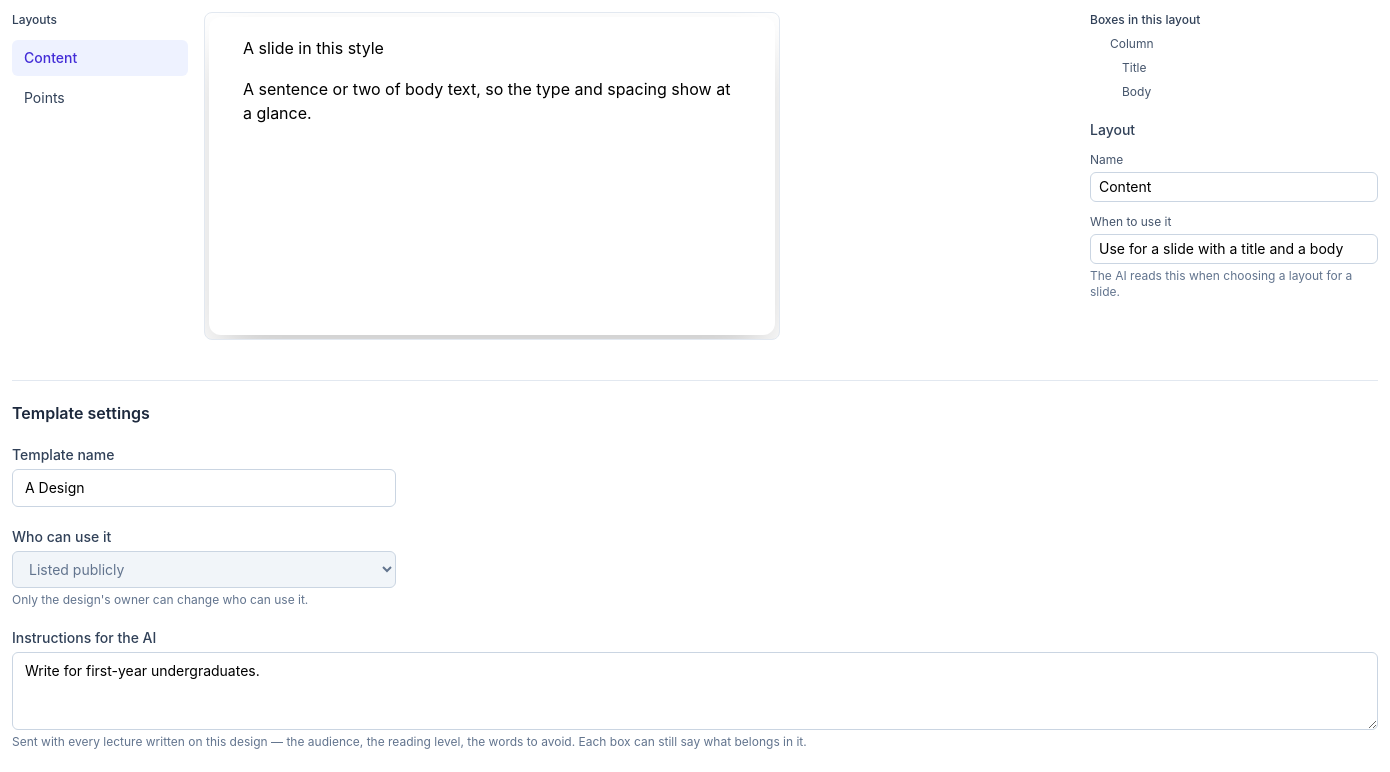
Scenario: TemplateReaderView (TMPL-29) › shows the first layout’s own settings, and switching layouts updates them
Expected: the field showing "Use for a slide with a title and a body" is shown, [1090,234,1378,264]
Click the tab "Points" at point(100, 98), box [12,80,188,116]
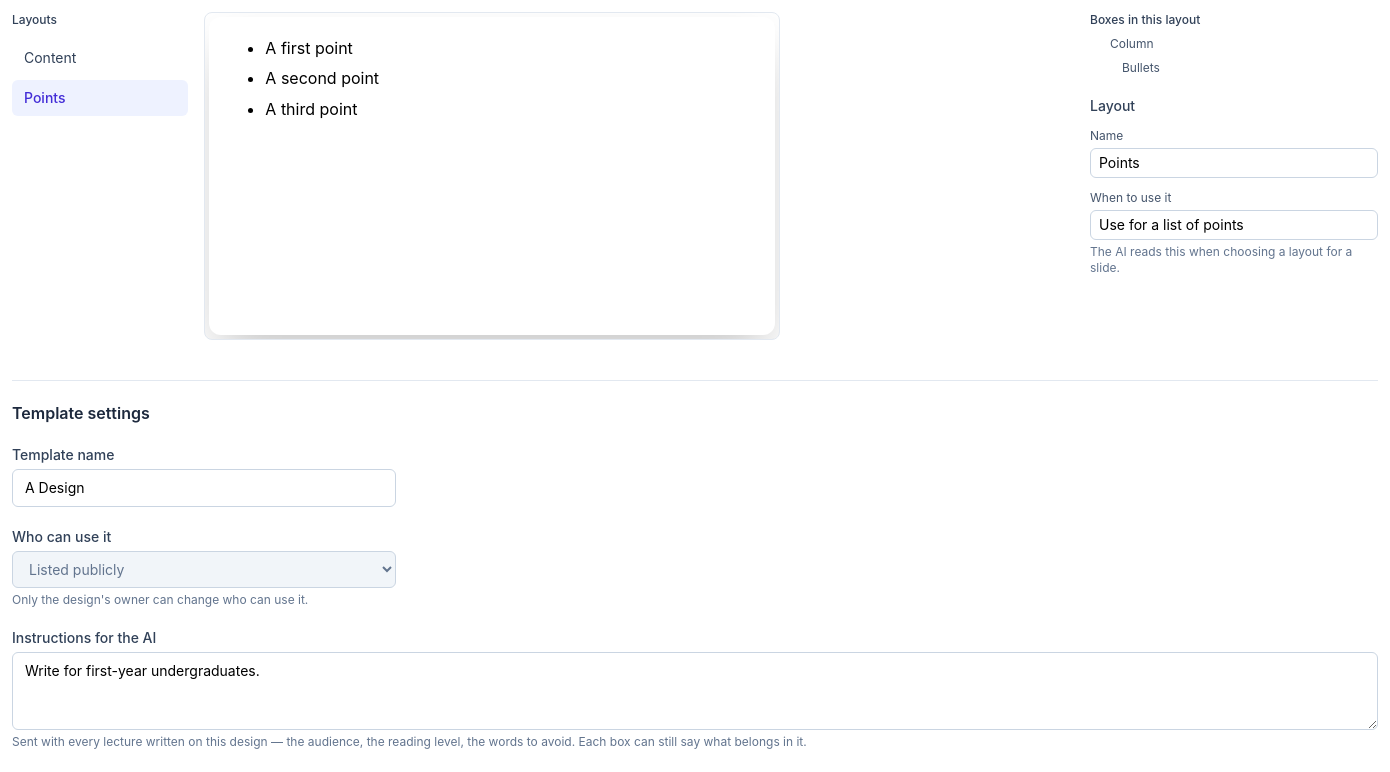
Now the field showing "Use for a list of points" is shown, box [1090,210,1378,240]
